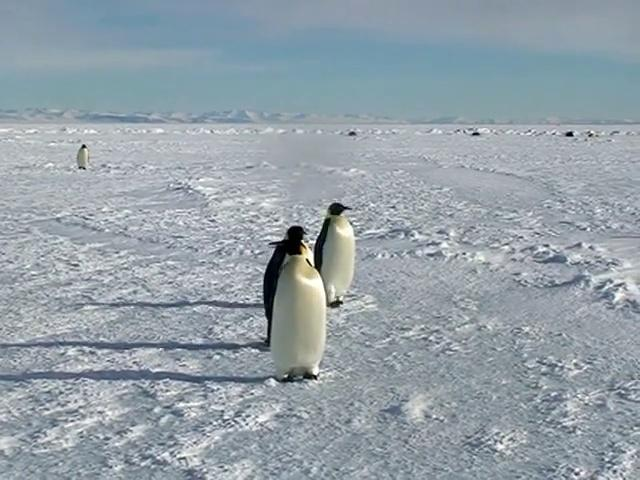animal: (315, 204, 356, 307)
